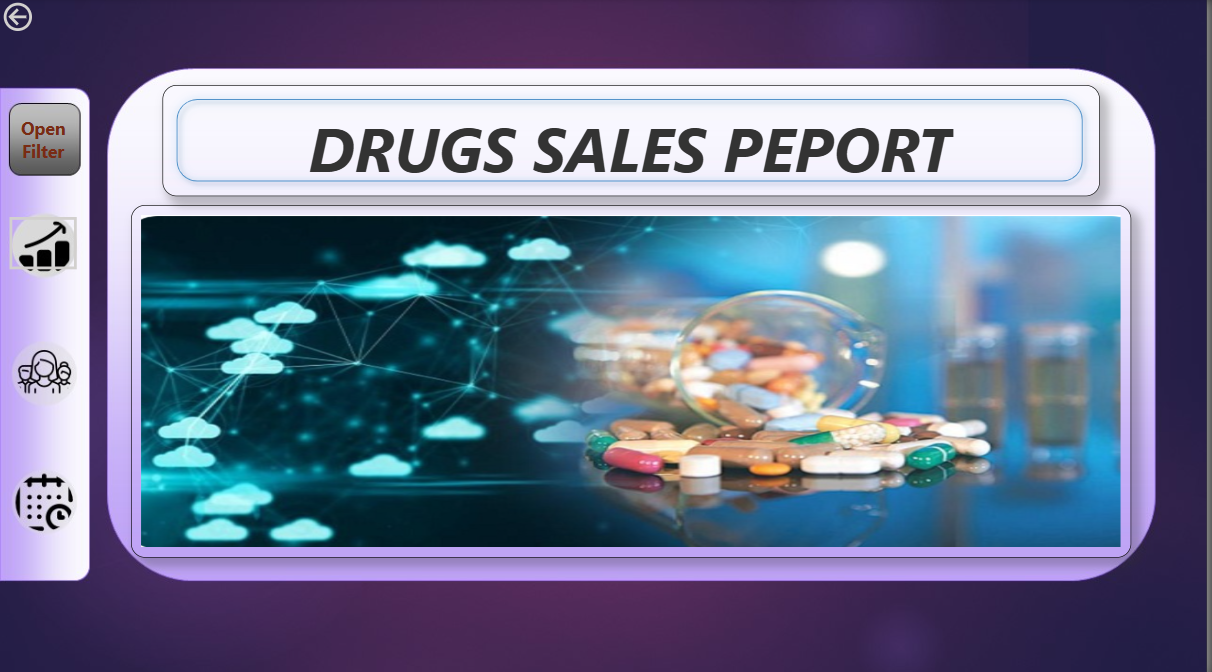

What the dashboard file says about the page in this screenshot:
{"tool":"powerbi","page":{"name":"Landing Page ","canvas":[1280,720],"ordinal":0},"visuals":[{"type":"actionButton","box":[0,0,100,40],"z":0},{"type":"actionButton","title":"Open","box":[11.9,110.5,71.4,79.6],"z":0,"group":"g1"},{"type":"group","id":"g1","title":"OpenClose","box":[11.9,110.5,71.4,79.6],"z":2000},{"type":"actionButton","box":[9.5,498.8,78.6,72.6],"z":3000},{"type":"actionButton","box":[8.3,363.1,78.6,72.6],"z":4000},{"type":"actionButton","box":[11.1,232.2,71.6,55.7],"z":5000},{"type":"shape","box":[173.4,92.3,994.1,117.7],"z":6000},{"type":"image","box":[140,219.5,1060.9,373.8],"z":7000}]}

Visuals, with their boxes in screenshot pixels (x1, y1, x2, y2), scaled from the page's 1280x720 canvas onto the 1212x672 screenshot:
actionButton: 0/0/95/37
"Open" actionButton: 11/103/79/177
"OpenClose" group: 11/103/79/177
actionButton: 9/466/83/533
actionButton: 8/339/82/407
actionButton: 11/217/78/269
shape: 164/86/1105/196
image: 133/205/1137/554
